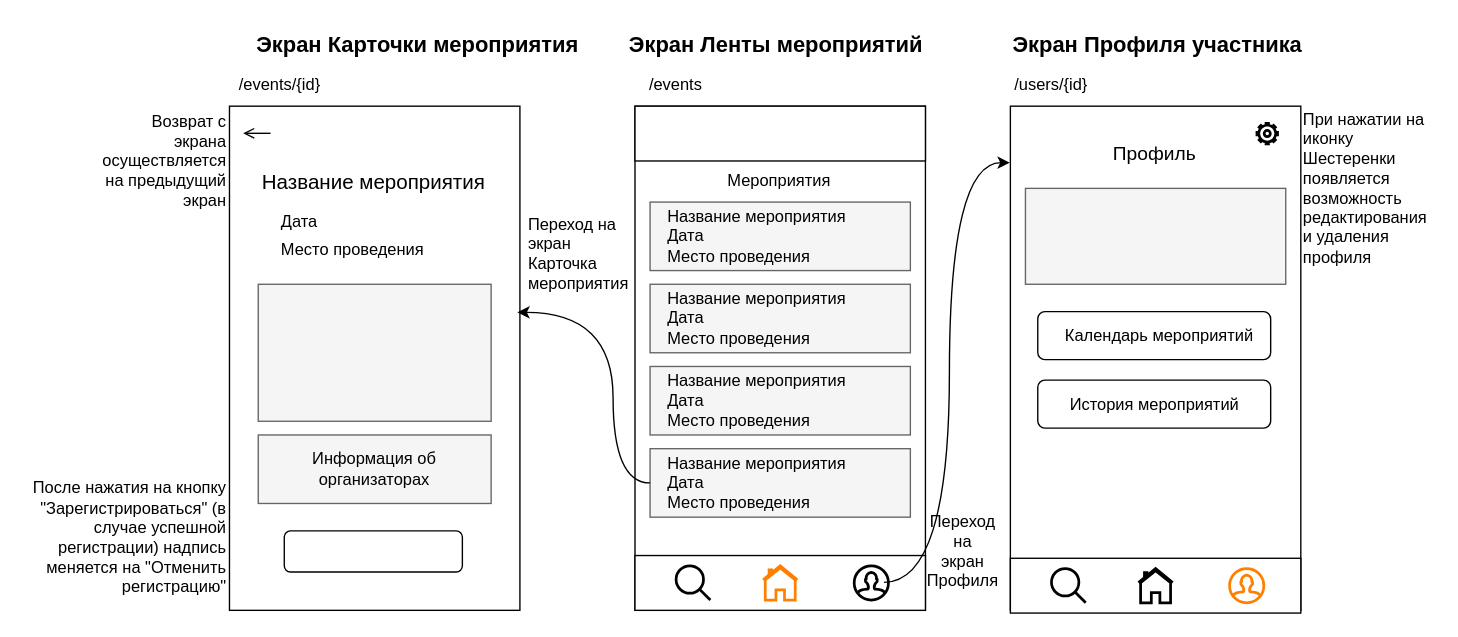
Some shapes in this 1458 by 637 pixel diagram are drawn without their labels. The shapes that lost their labels are listed below. From the top down, each one's centre as x and y in pixels, then its label:
At point (779, 133): "Название и логотип".
At point (1155, 235): "Имя E-mail Роль: участник".
At point (374, 352): "Описание мероприятия".
At point (372, 551): "Зарегистрироваться".
